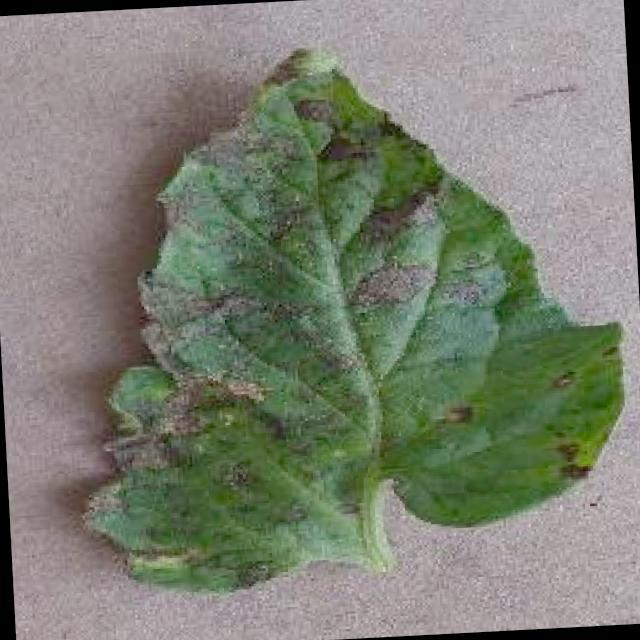Tomato Early blight leaf: (54, 27, 631, 594)
